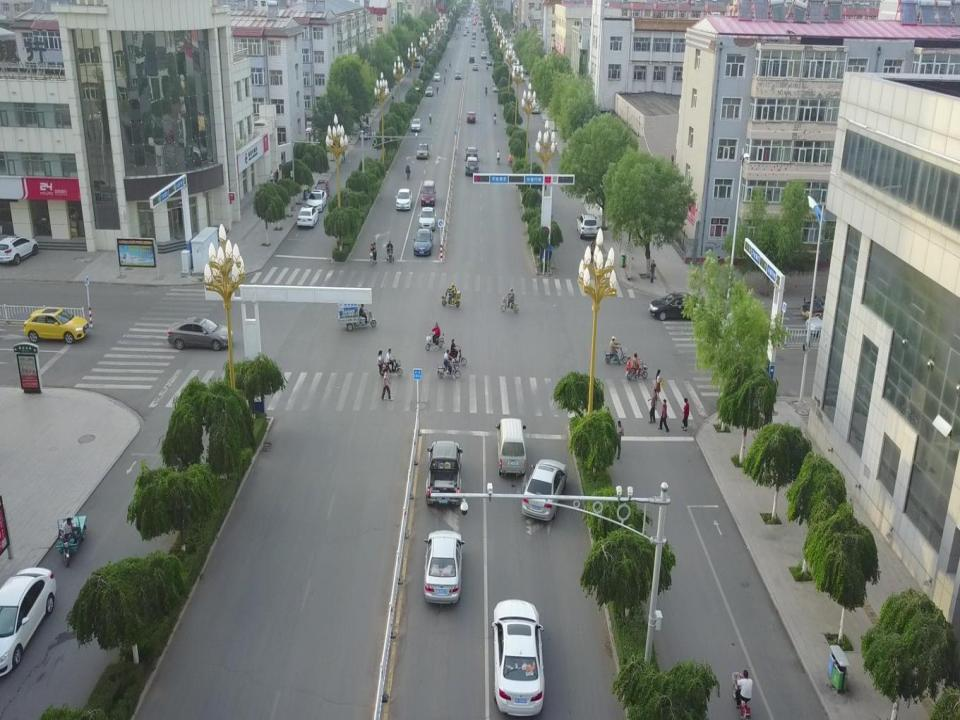car: (490, 597, 546, 716), (2, 564, 57, 679), (422, 529, 467, 605), (521, 458, 568, 520), (22, 308, 90, 344), (166, 316, 234, 350), (648, 291, 705, 321), (800, 294, 849, 322), (805, 311, 851, 337), (0, 236, 39, 266), (576, 214, 599, 239), (413, 229, 433, 255), (305, 189, 327, 212), (297, 207, 319, 228), (418, 207, 436, 231), (395, 187, 413, 210), (314, 178, 330, 198), (464, 156, 480, 176), (415, 143, 430, 159), (464, 146, 478, 161), (410, 118, 422, 132), (360, 125, 372, 139), (529, 102, 540, 114), (466, 111, 476, 123), (425, 87, 434, 96), (433, 72, 441, 81), (454, 70, 462, 79), (471, 63, 478, 70), (486, 58, 492, 65), (469, 56, 475, 63), (481, 52, 487, 58)
truck: (425, 439, 463, 507)
van: (495, 417, 526, 474), (420, 180, 436, 206), (414, 56, 421, 68), (471, 40, 476, 47)
